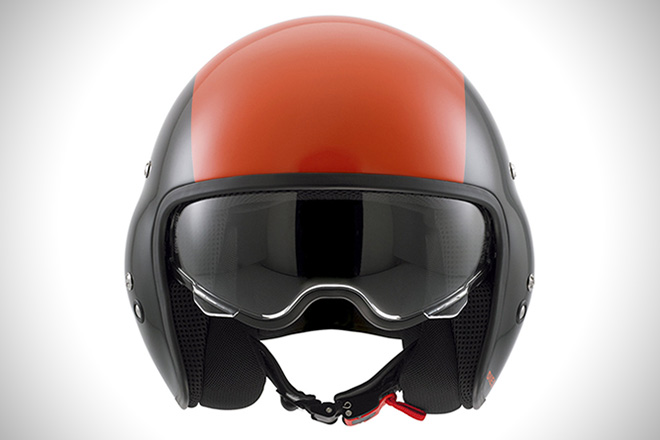with_helmet: (119, 13, 538, 429)
